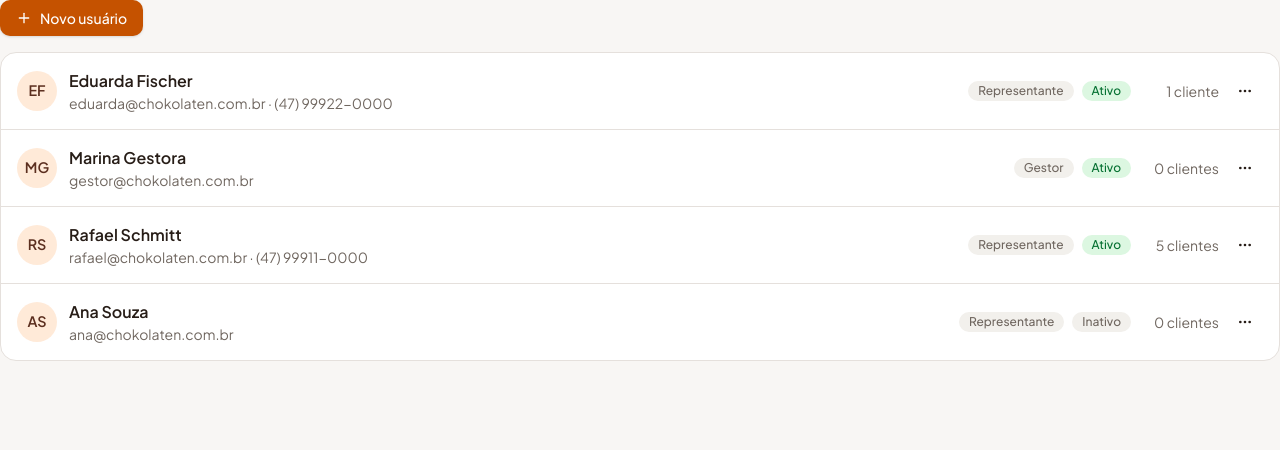
UsuariosPage › inativar mantendo a carteira não transfere; cancelar não inativa
This screenshot has width=1280, height=450.
What coordinates should you click on to do the following:
click the button named "Ações de Rafael Schmitt"
I would click on:
 (1245, 245)
Its box is x1=1227 y1=227 x2=1263 y2=263.
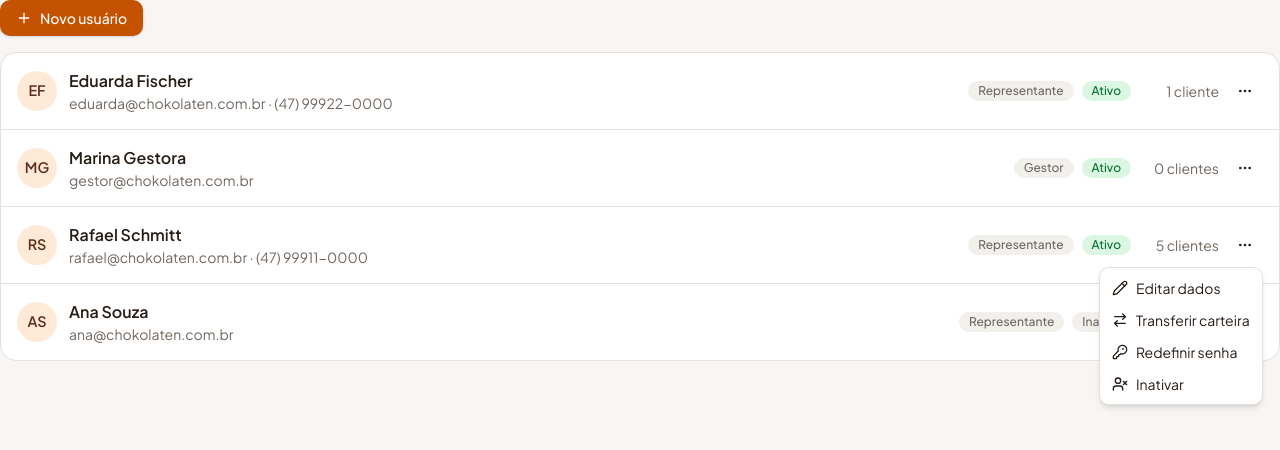
What coordinates should you click on to do the following:
click the menu item "Inativar"
I would click on:
 (1148, 384)
Its box is x1=1112 y1=375 x2=1184 y2=393.
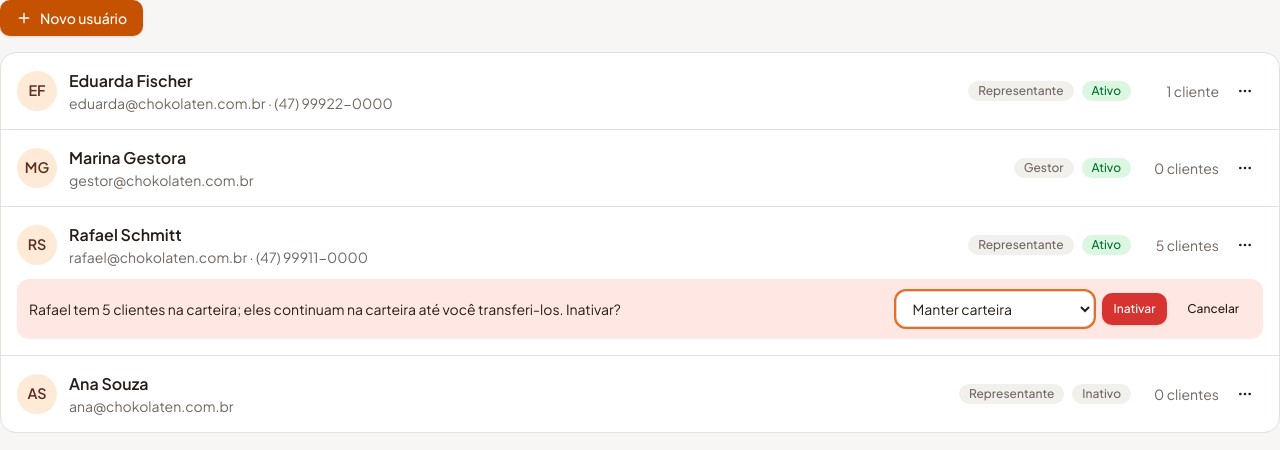
What coordinates should you click on to do the following:
click the button "Cancelar"
I would click on:
 (1213, 309)
Its box is x1=1175 y1=293 x2=1251 y2=325.
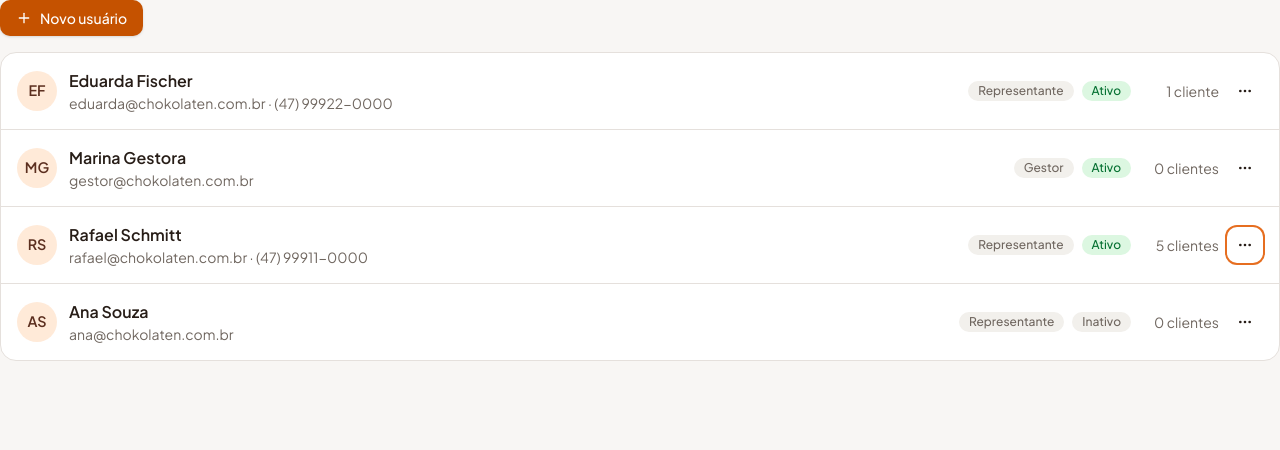
What coordinates should you click on to do the following:
click the button named "Ações de Rafael Schmitt"
I would click on:
 (1245, 245)
Its box is x1=1227 y1=227 x2=1263 y2=263.
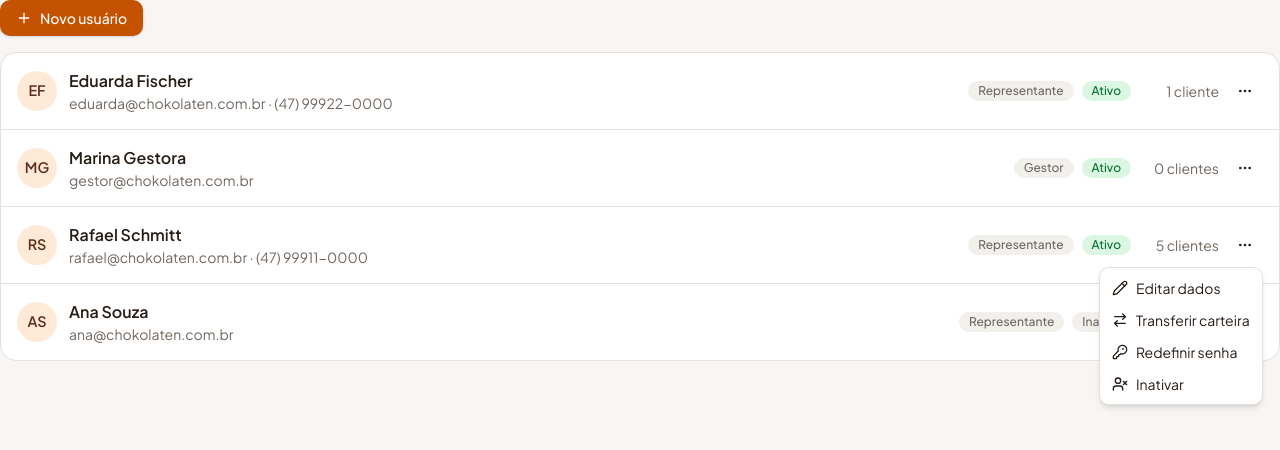
What coordinates should you click on to do the following:
click the menu item "Inativar"
I would click on:
 (1148, 384)
Its box is x1=1112 y1=375 x2=1184 y2=393.
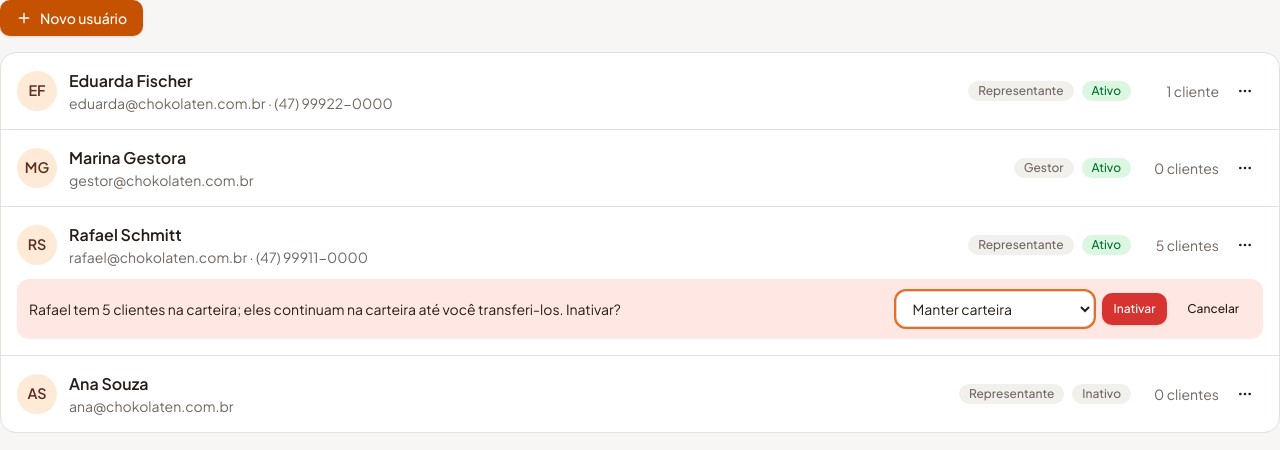
What coordinates should you click on to do the following:
click the button "Inativar"
I would click on:
 (1134, 309)
Its box is x1=1102 y1=293 x2=1167 y2=325.
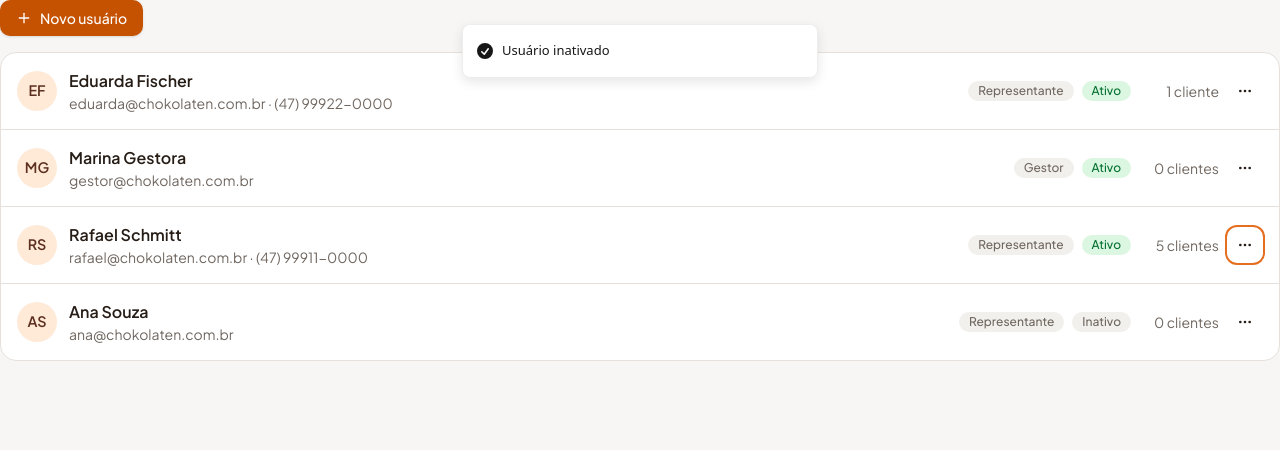
Expected: the text "Usuário inativado" is shown, x1=502 y1=41 x2=610 y2=60
